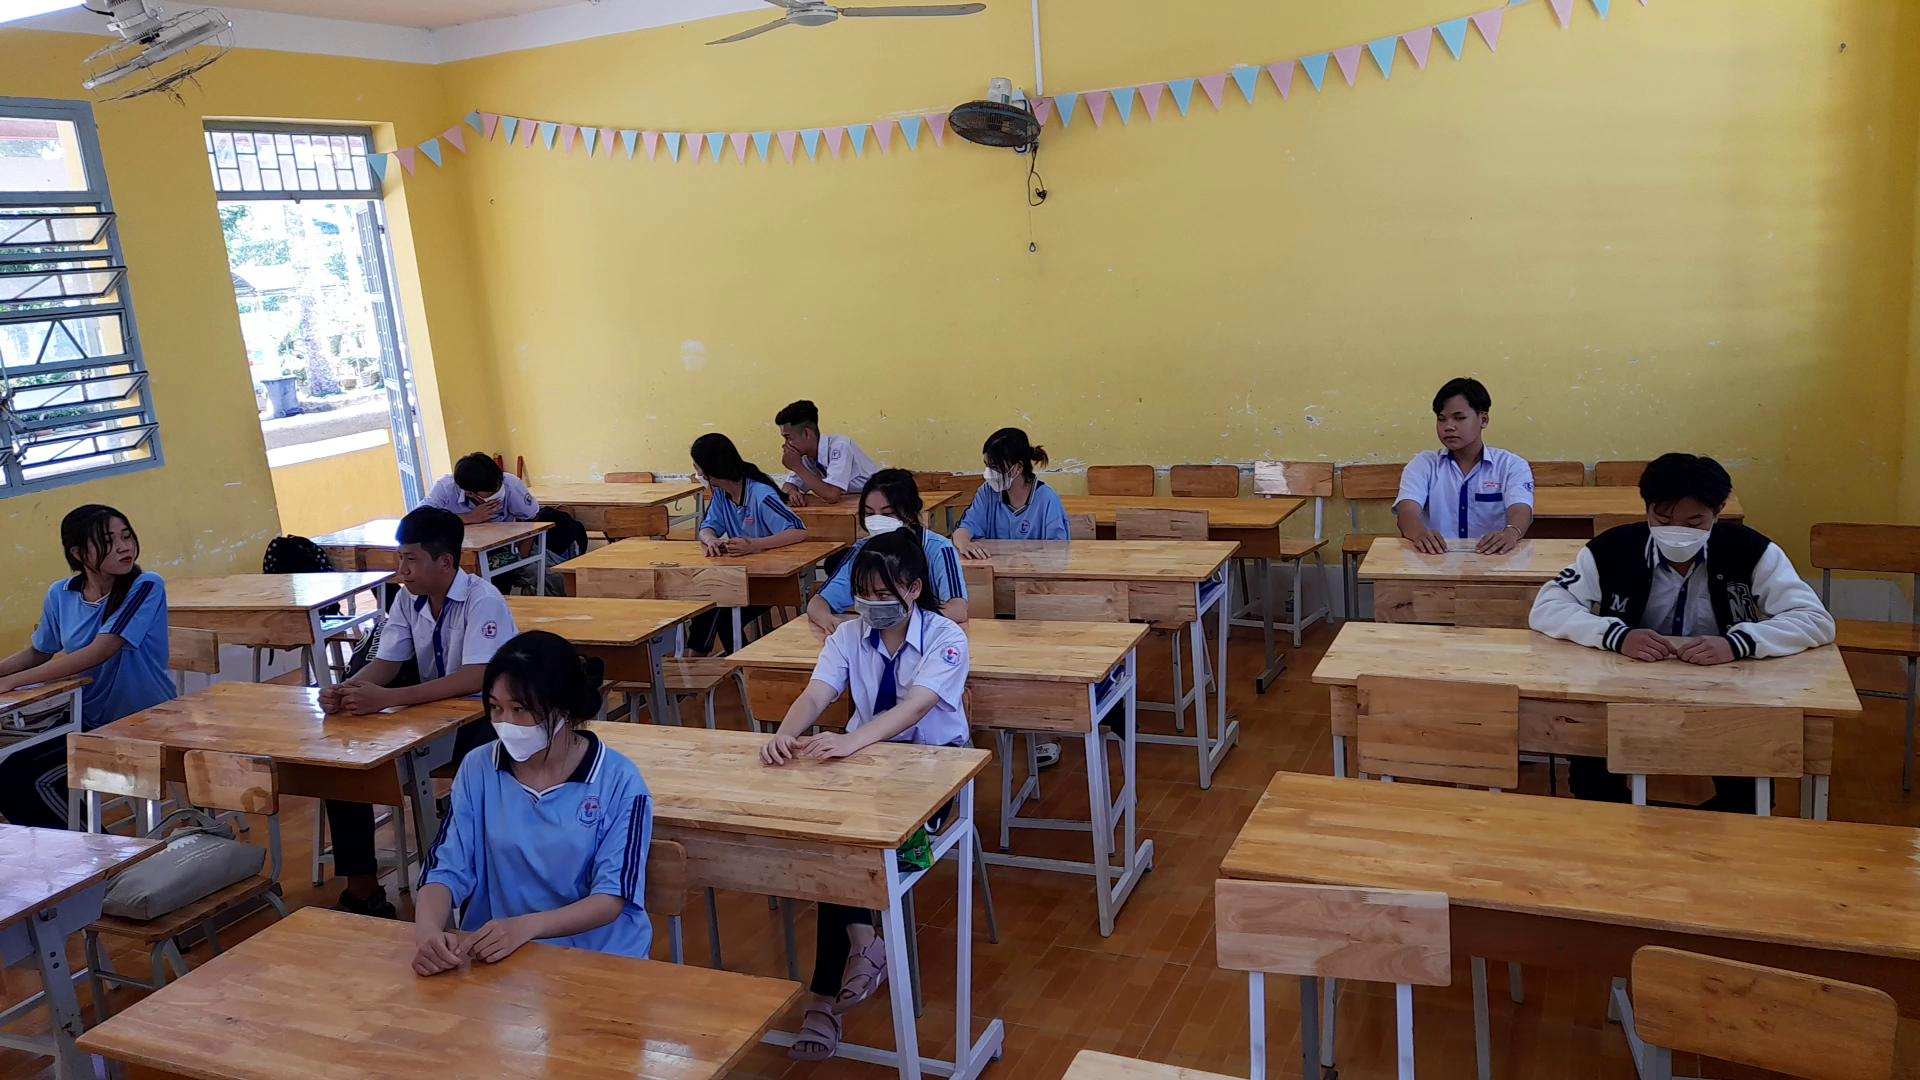Hand Under Table: (502, 476, 547, 564), (1023, 485, 1071, 553)
Look Around: (368, 495, 469, 595), (47, 495, 149, 593), (417, 446, 518, 524), (663, 423, 757, 500), (760, 385, 853, 462), (955, 419, 1048, 495)
Normal: (409, 617, 663, 1004), (1526, 442, 1853, 666), (742, 509, 980, 781), (1382, 363, 1542, 568)
